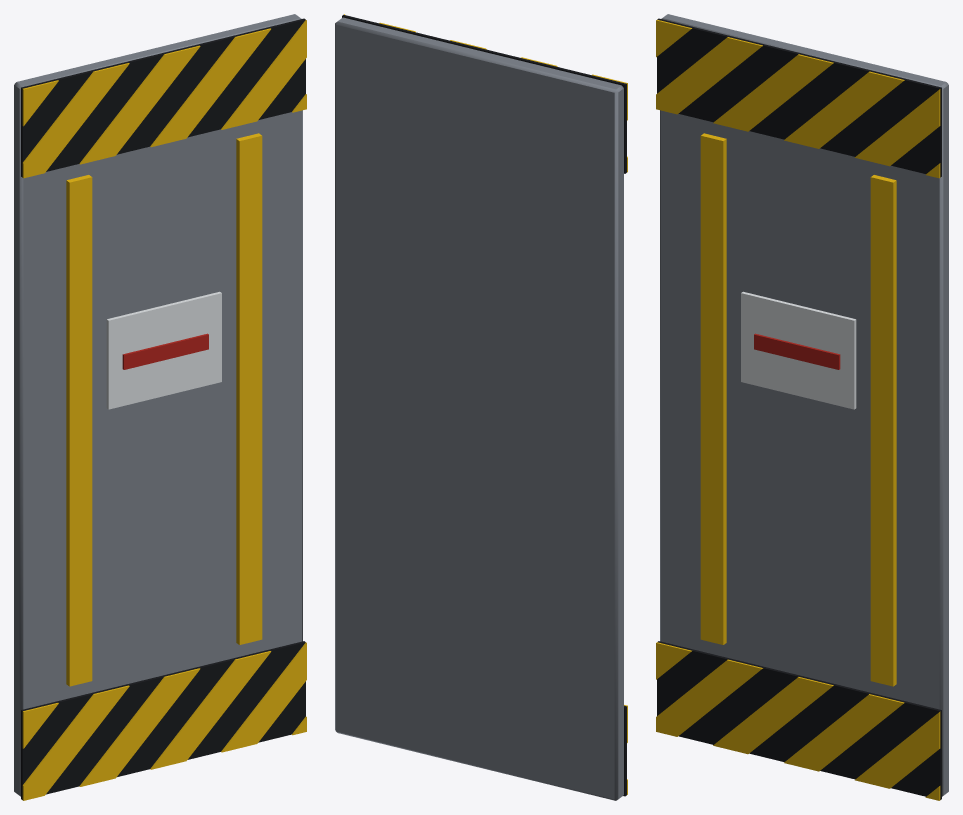
File: wallpanel_tall_hazard_stripe.glb
3 renders of one model, left to right at view 1: azimuth 30°, elevation 25°; view 2: azimuth 150°, elevation 25°; view 3: azimuth 330°, elevation 25°, orthographic.
Parts seen in each view (by area): view 1: wallpanel_tall_hazard_stripe; view 2: wallpanel_tall_hazard_stripe; view 3: wallpanel_tall_hazard_stripe.
Boxes of the visible parts, box(x1,y1,x2,y2) form: wallpanel_tall_hazard_stripe: box(14, 14, 306, 800); wallpanel_tall_hazard_stripe: box(335, 14, 627, 800); wallpanel_tall_hazard_stripe: box(656, 14, 948, 800).
Bounding box in the file's own units: 1 × 2.4 × 0.074.
